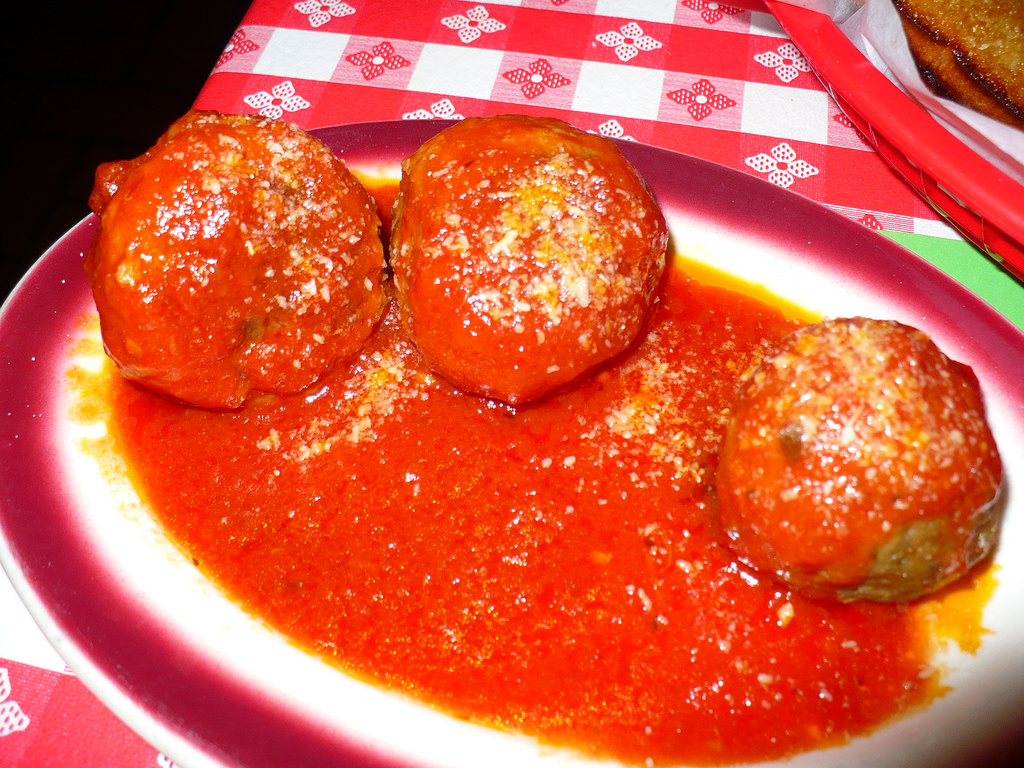meatballs: (104, 130, 358, 368), (409, 114, 632, 381), (781, 332, 973, 594)
